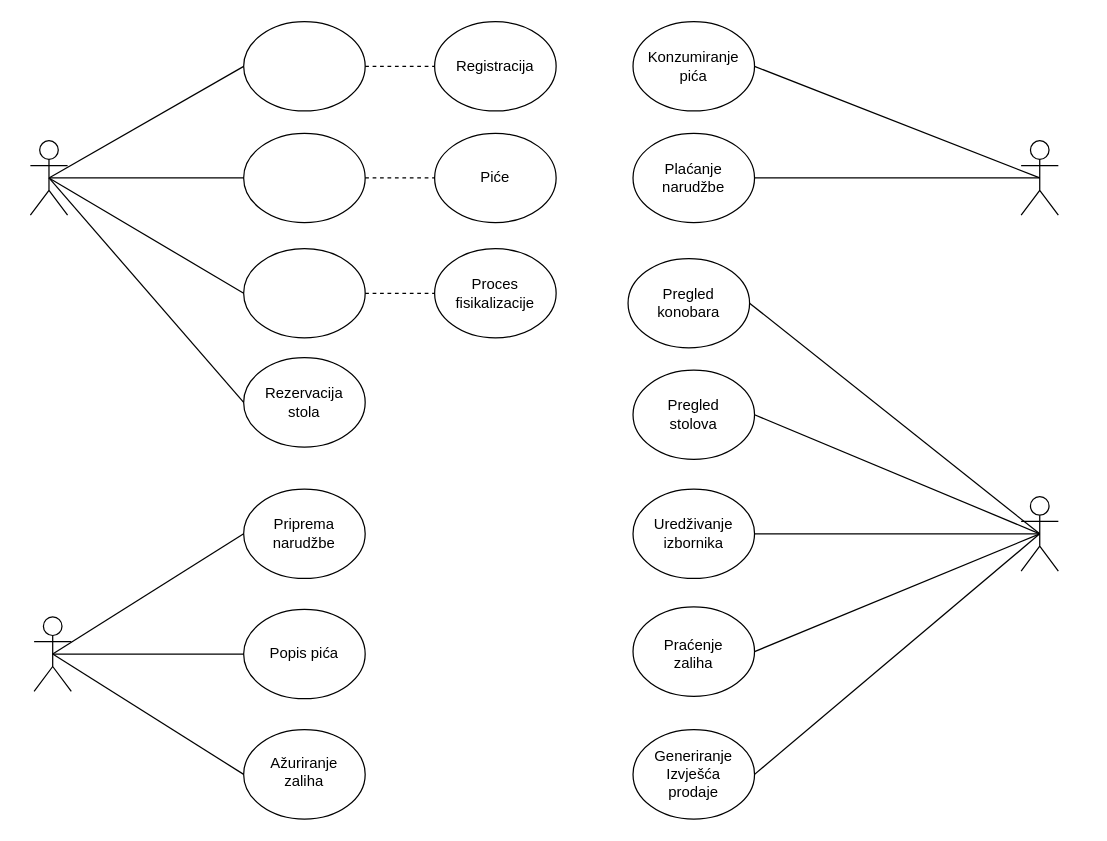
The diagram is 1107 pixels wide and 841 high, and some of its shapes have lost their labels. Each missing label, with the centre of its shape:
Barista: (52,653)
Konobar: (48,177)
Narudžba pića: (303,177)
Posjetitelj: (1039,177)
Prijavljivanje u sustav: (303,65)
Stvaranje računa: (303,292)
Šef/menadžer: (1039,533)
